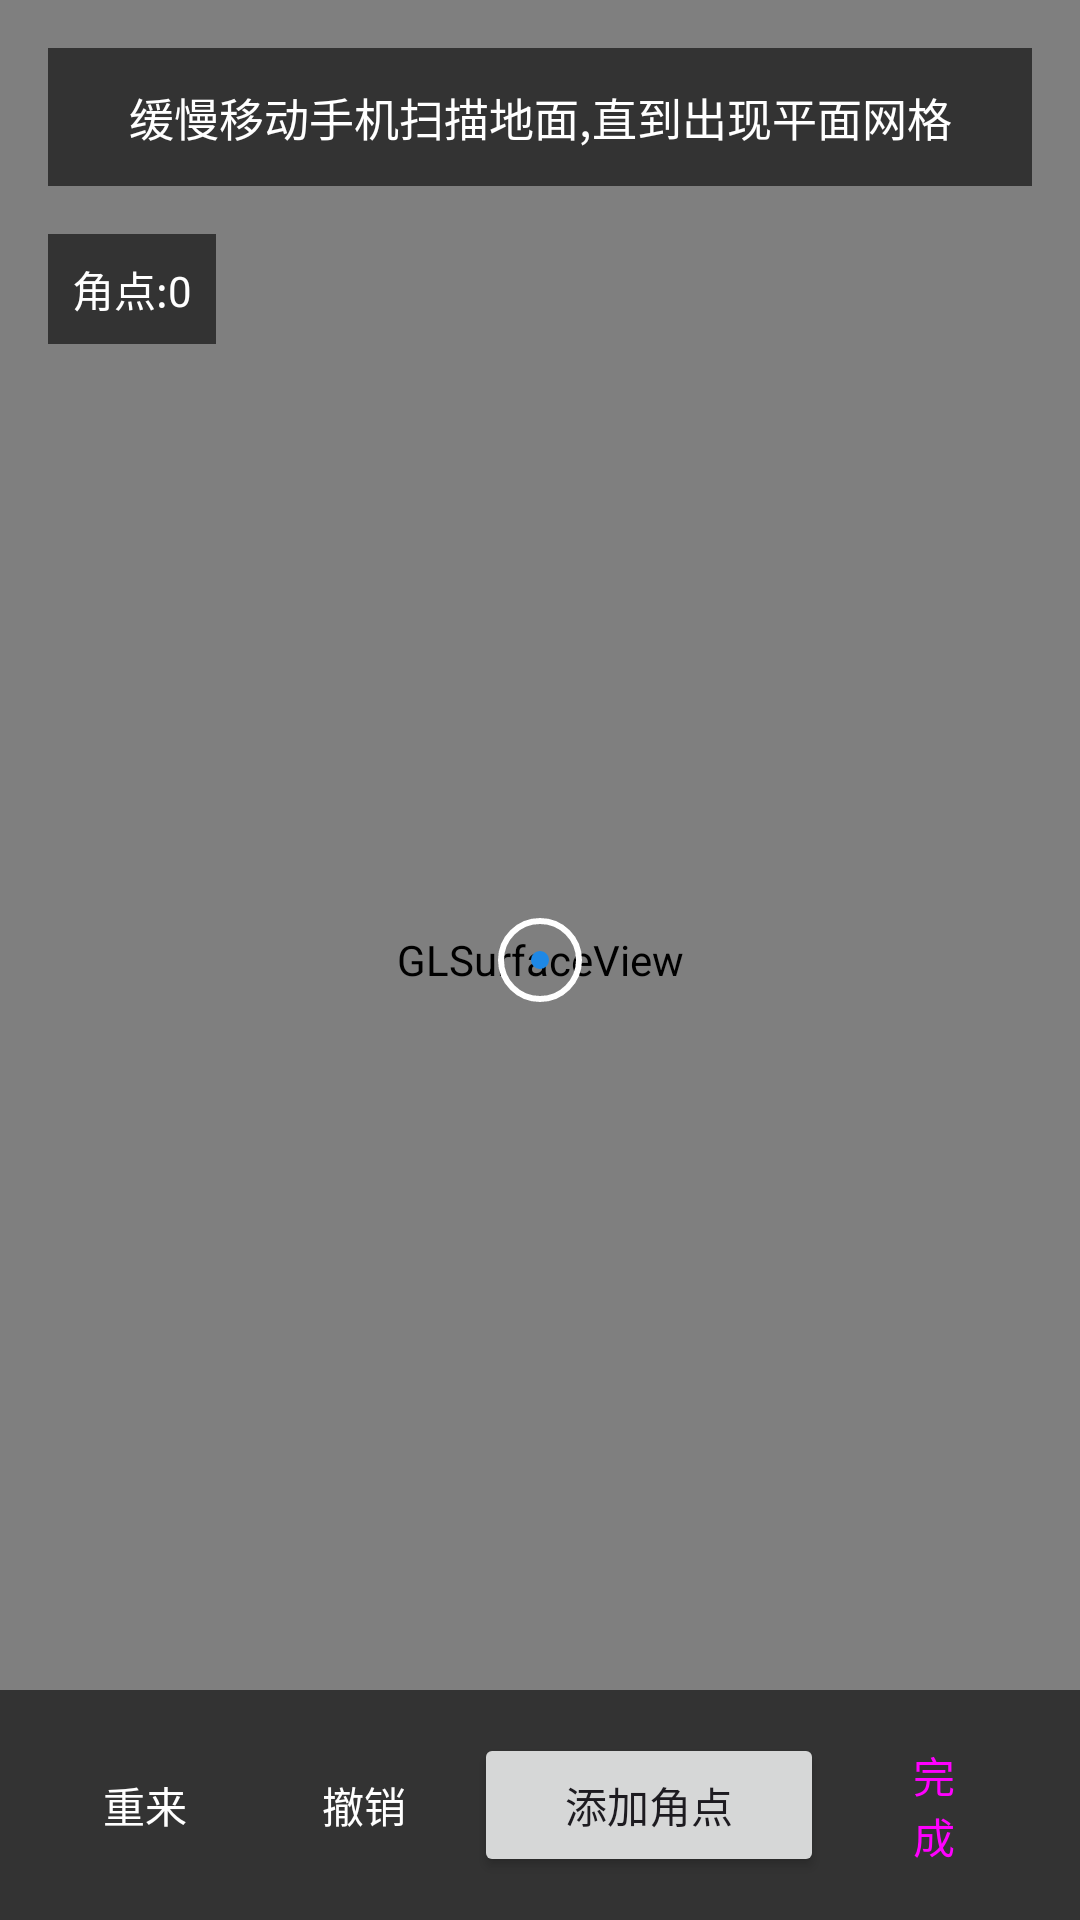

Icon bounding boxes for this 1080w x 1920h phone screenshot, format bbox=(x1, y1, x2, y2):
reticle: bbox=(498, 918, 582, 1002)
